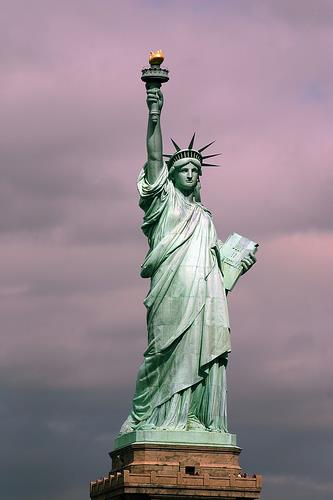Statue_of_Liberty: (118, 43, 262, 449)
